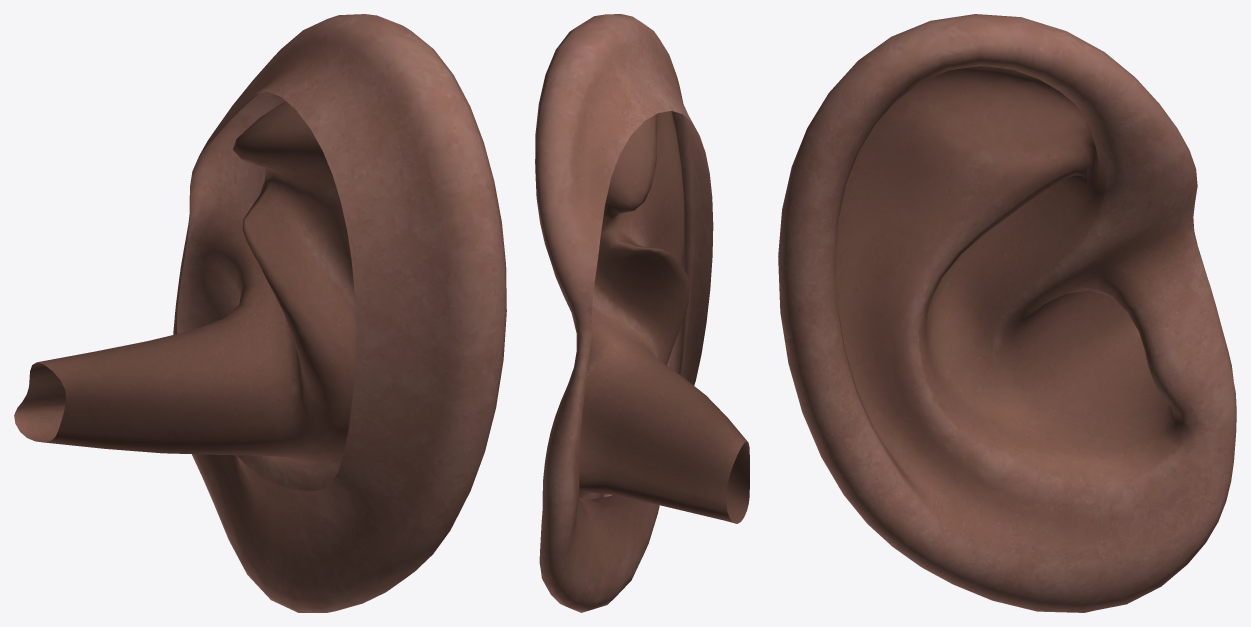
File: PRP_EarModel.glb
3 renders of one model, left to right at view 1: azimuth 30°, elevation 25°; view 2: azimuth 150°, elevation 25°; view 3: azimuth 270°, elevation 25°, orthographic. The views are drawn at different scales.
Parts seen in each view (by area): view 1: Ear_LP_LOD0__0; view 2: Ear_LP_LOD0__0; view 3: Ear_LP_LOD0__0.
Part boxes in pixels (bbox=[...]): Ear_LP_LOD0__0: bbox=[14, 14, 506, 612]; Ear_LP_LOD0__0: bbox=[535, 14, 749, 612]; Ear_LP_LOD0__0: bbox=[778, 14, 1236, 612].
Size of the model in its own units: 0.802 by 1.53 by 1.02.
Materials: 1 (1 with a texture image).
